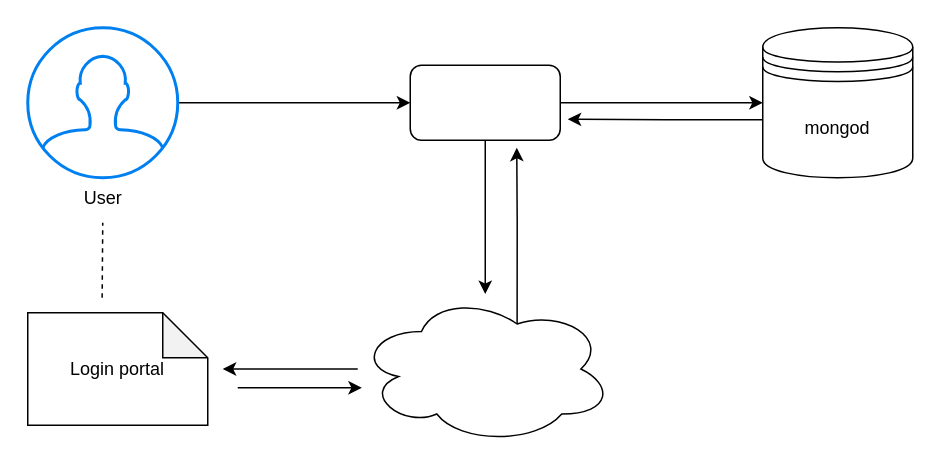
The diagram is 939 pixels wide and 470 high, and some of its shapes have lost their labels. The box of each missing label's shape, as (x1, y1, x2, y2) in pixels:
Identity Provider: (356, 292, 613, 444)
mongo client: (409, 64, 560, 140)
